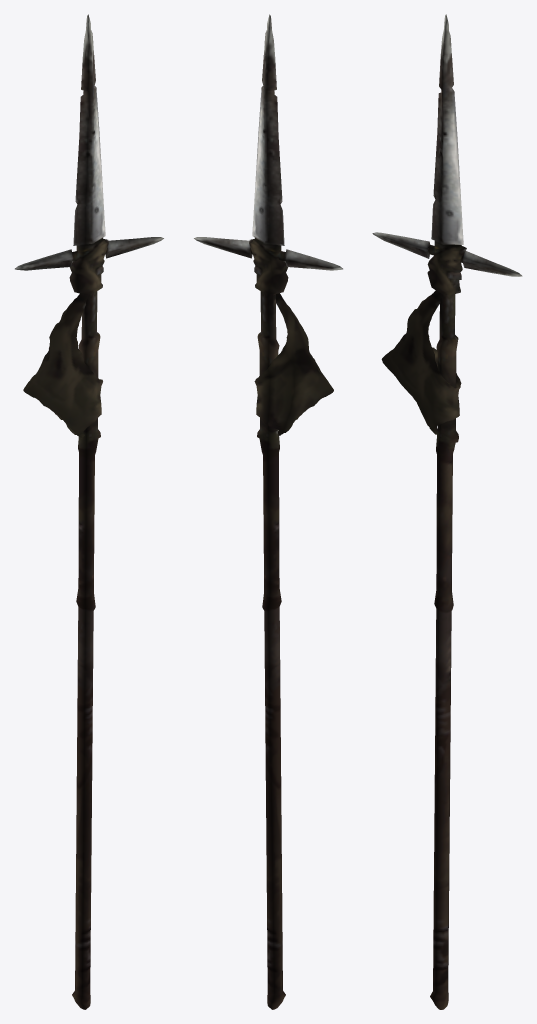
The model's file is weapon-needle-spear.glb.
3 renders of one model, left to right at view 1: azimuth 30°, elevation 25°; view 2: azimuth 150°, elevation 25°; view 3: azimuth 330°, elevation 25°, orthographic.
Parts seen in each view (by area): view 1: spearB_MDL_q; view 2: spearB_MDL_q; view 3: spearB_MDL_q.
Boxes of the visible parts, bbox=[...] form: spearB_MDL_q: bbox=[15, 14, 163, 1009]; spearB_MDL_q: bbox=[194, 14, 342, 1009]; spearB_MDL_q: bbox=[372, 14, 522, 1009].
Bounding box in the file's own units: 0.4991 × 3.15 × 0.063.
Materials: 1 (1 with a texture image).
